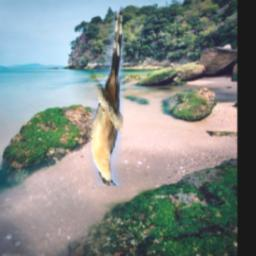Cuckoo: (92, 7, 124, 187)
